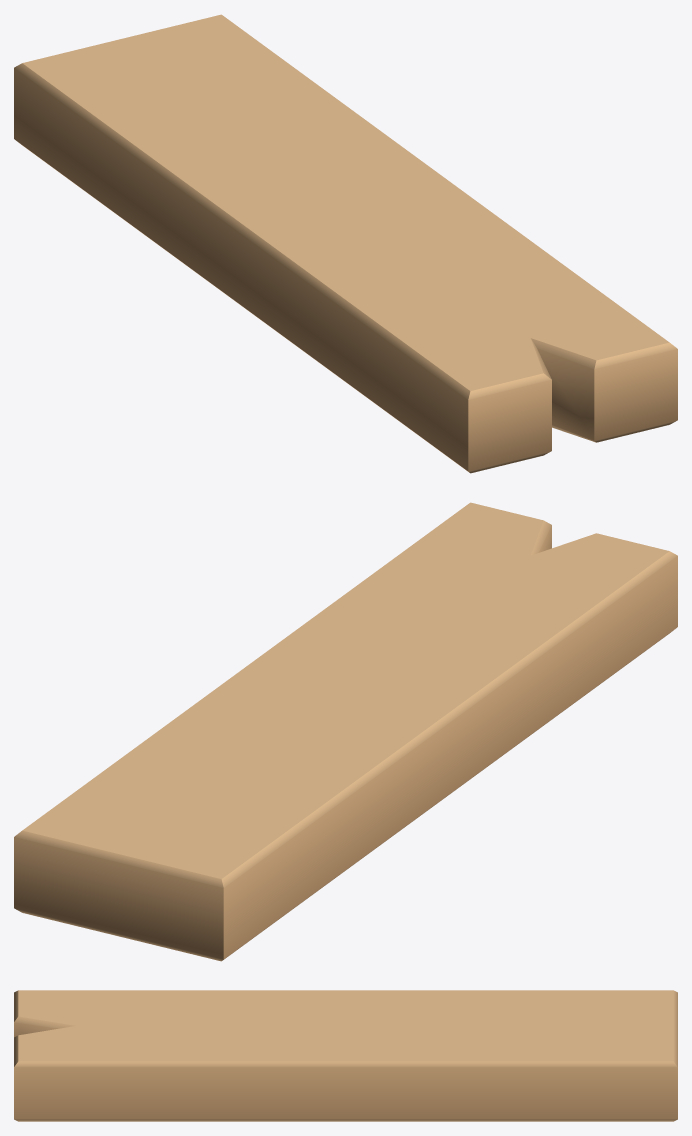
File: Wood_Plank_B.glb
3 views of the same model, one above another, from view 1: azimuth 30°, elevation 25°; view 2: azimuth 150°, elevation 25°; view 3: azimuth 270°, elevation 25° (orthographic). The views are drawn at different scales.
Visible parts, largest first — view 1: Wood_Plank_B; view 2: Wood_Plank_B; view 3: Wood_Plank_B.
Boxes of the visible parts, x1,y1,x2,y2 form: Wood_Plank_B: [14, 14, 677, 473]; Wood_Plank_B: [14, 502, 677, 961]; Wood_Plank_B: [14, 990, 677, 1121].
Size of the model in its own units: 0.4 by 0.15 by 1.5.
1 material, 1 textured.
